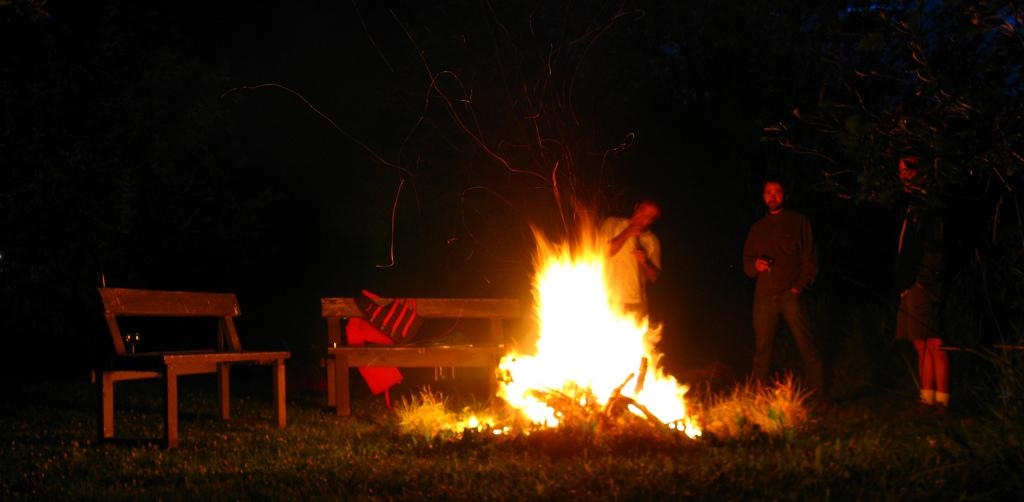fire: (535, 254, 636, 386), (651, 370, 684, 425), (508, 360, 532, 406)
